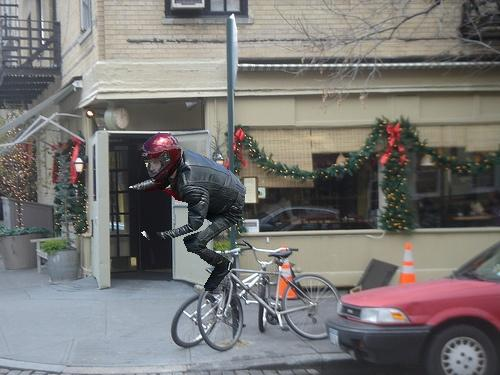tampered: (130, 133, 246, 291)
